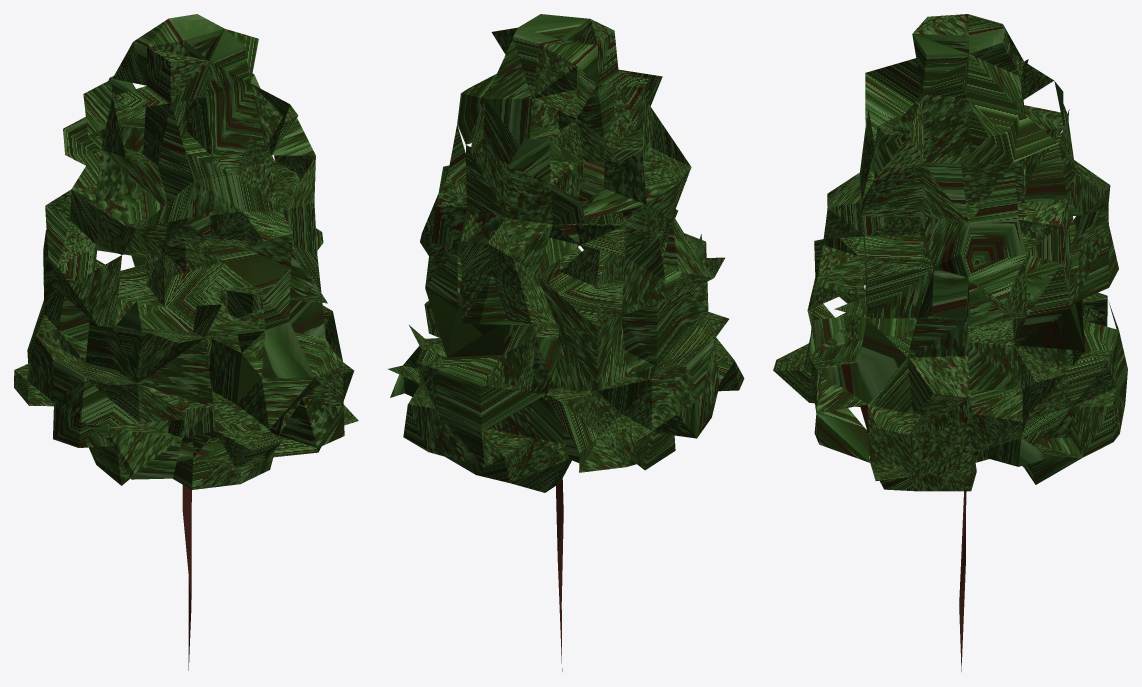
Rendered from pine_lo.glb.
3 renders of one model, left to right at view 1: azimuth 30°, elevation 25°; view 2: azimuth 150°, elevation 25°; view 3: azimuth 270°, elevation 25°, orthographic.
Parts seen in each view (by area): view 1: textured_mesh.obj; view 2: textured_mesh.obj; view 3: textured_mesh.obj.
Boxes of the visible parts, left/top/right/bottom form: textured_mesh.obj: left=14, top=14, right=358, bottom=670; textured_mesh.obj: left=388, top=14, right=744, bottom=671; textured_mesh.obj: left=773, top=14, right=1127, bottom=671.
Bounding box in the file's own units: 0.4573 × 1.04 × 0.5199.
1 material, 1 textured.
